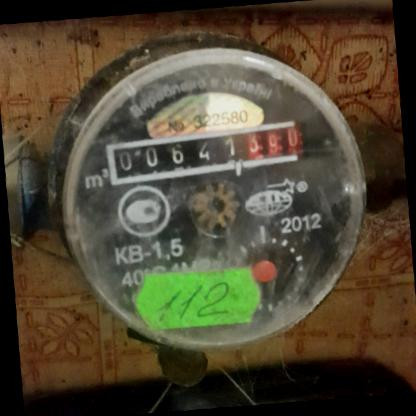digital_screen: (104, 126, 245, 189)
